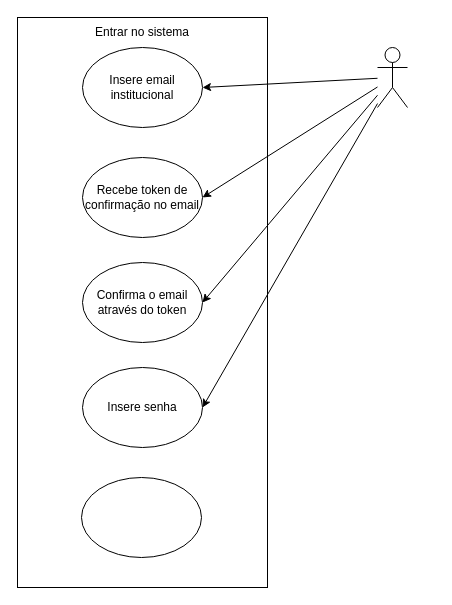
This 452x605 diagram has some shape labels left out. The box of each missing label's shape, as (x1, y1, x2, y2) in pixels:
Efetua login/autenticação: (80, 476, 202, 558)
Todos os atores: (376, 46, 408, 108)
